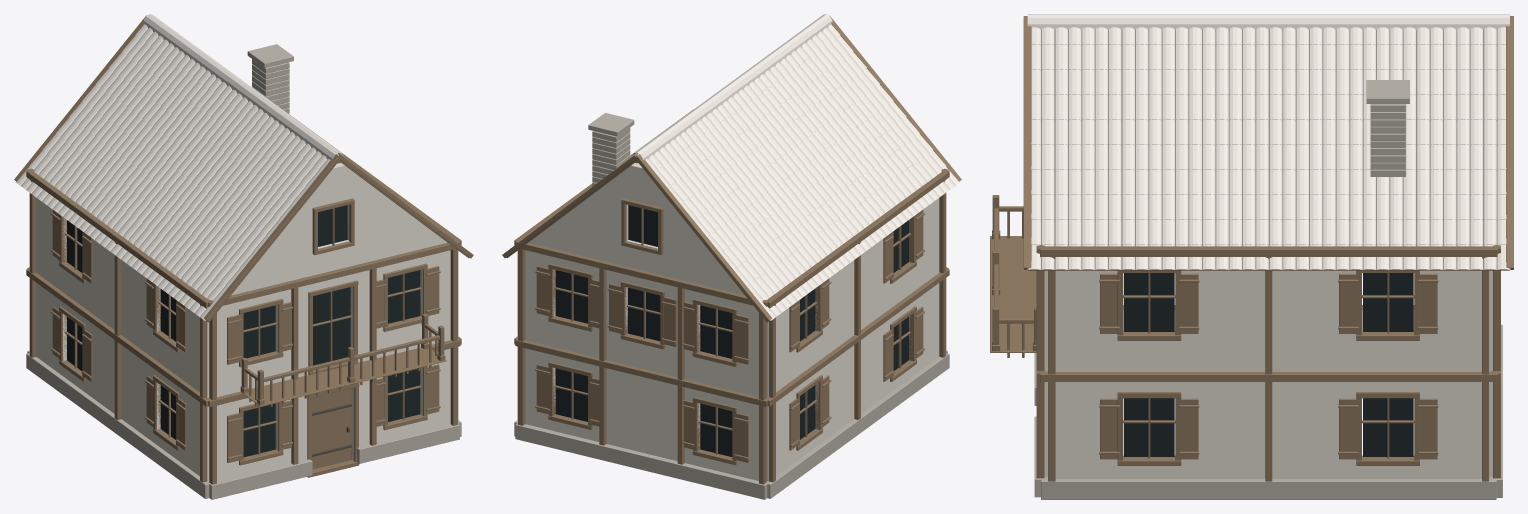
File: Townhouse_2.glb
3 views of the same model, side by side, from view 1: azimuth 30°, elevation 25°; view 2: azimuth 150°, elevation 25°; view 3: azimuth 270°, elevation 25° (orthographic). The views are drawn at different scales.
Visible parts, largest first — view 1: Townhouse_2; view 2: Townhouse_2; view 3: Townhouse_2.
Part boxes in pixels (x1,y1,x2,y2): Townhouse_2: (14,14,473,499); Townhouse_2: (502,14,961,499); Townhouse_2: (990,14,1513,499).
Size of the model in its own units: 8.95 by 10.24 by 11.84.
